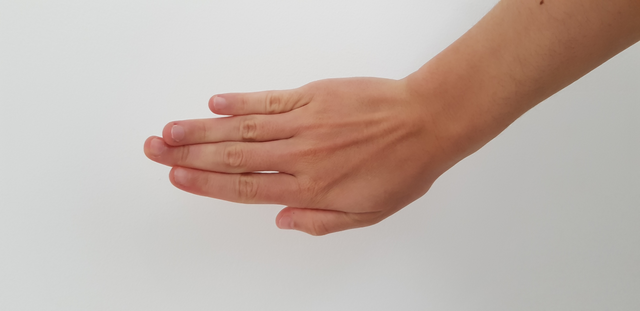Paper: (134, 65, 457, 246)
